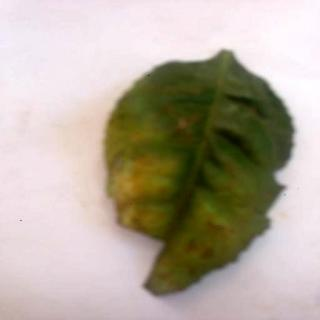Brown Blight: (104, 52, 299, 297)
